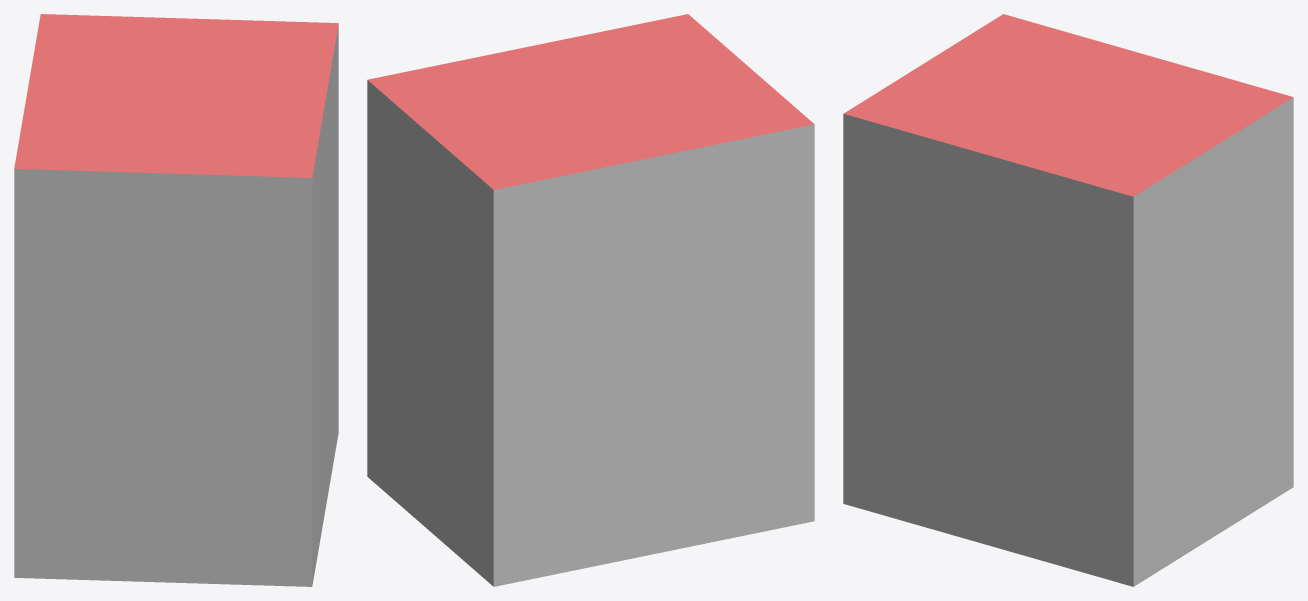
The model's file is ID_ed4f6543-b2a4-425d-b330-3c00024dbd21.gltf.
3 renders of one model, left to right at view 1: azimuth 30°, elevation 25°; view 2: azimuth 150°, elevation 25°; view 3: azimuth 270°, elevation 25°, orthographic. The views are drawn at different scales.
Parts seen in each view (by area): view 1: Z_UP; view 2: Z_UP; view 3: Z_UP.
Boxes of the visible parts, x1=… form: Z_UP: x1=14, y1=14, x2=338, y2=586; Z_UP: x1=367, y1=14, x2=814, y2=586; Z_UP: x1=843, y1=14, x2=1293, y2=586.
Size of the model in its own units: 16.05 by 15.97 by 16.69.
